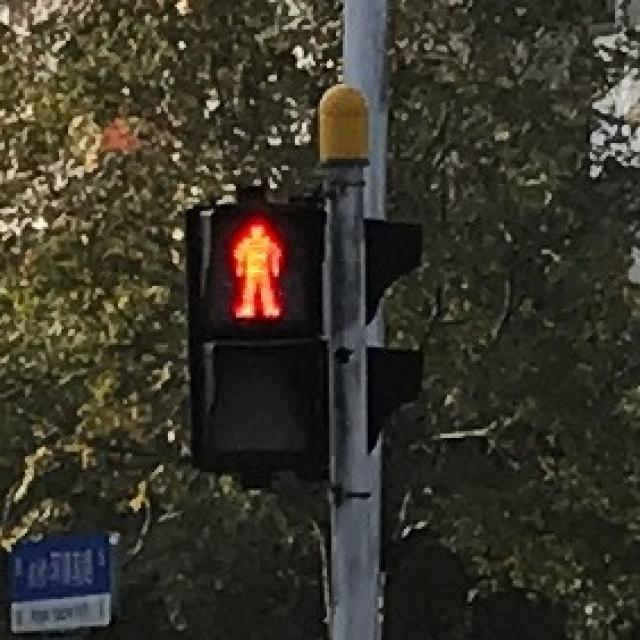red-crossing: (205, 205, 306, 322)
